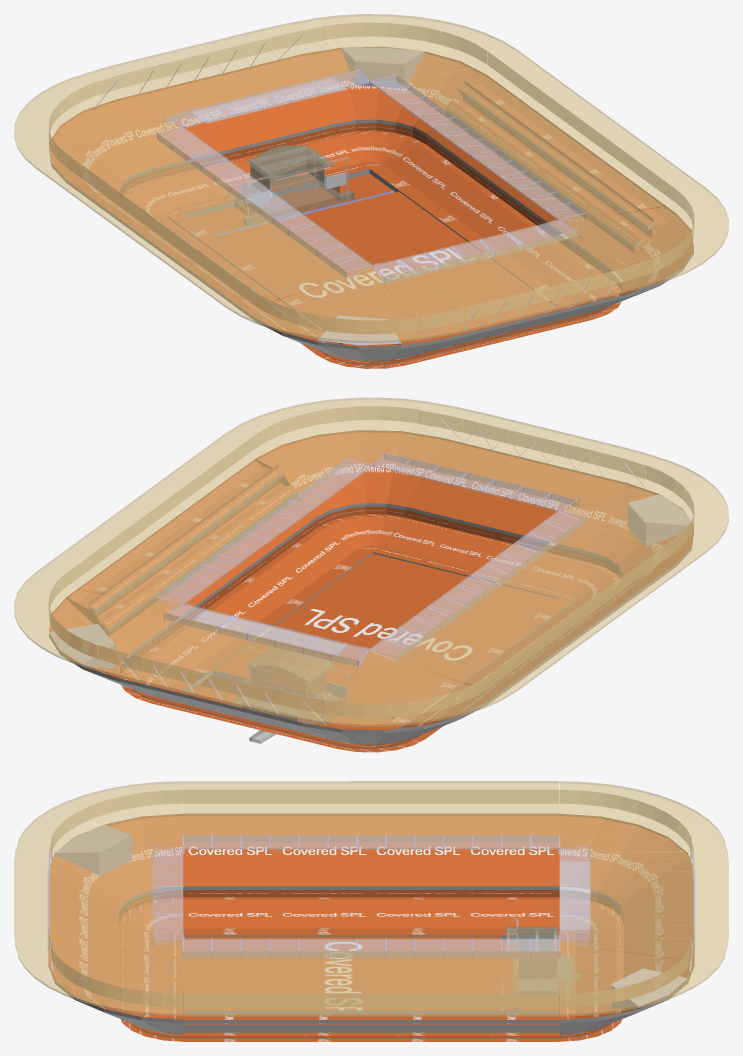
File: L-Arena.glb
3 renders of one model, top to bottom at view 1: azimuth 30°, elevation 25°; view 2: azimuth 150°, elevation 25°; view 3: azimuth 270°, elevation 25°, orthographic.
Visible parts, largest first — view 1: Surfaces, 7/Surface 5, 1/Field, 595/Surface 5, 600/Surface 5, 590/Surface 5, 605/Surface 5, 927/Surface 5, 937/Surface 5, 942/Surface 5, 932/Surface 5, 793/Surface 5 (+37 smaller); view 2: Surfaces, 7/Surface 5, 512/Surface 5, 517/Surface 5, 507/Surface 5, 502/Surface 5, 1/Field, 932/Surface 5, 927/Surface 5, 414/Surface 5, 937/Surface 5, 942/Surface 5 (+34 smaller); view 3: Surfaces, 7/Surface 5, 683/Surface 5, 688/Surface 5, 678/Surface 5, 693/Surface 5, 663/Surface 5, 668/Surface 5, 673/Surface 5, 658/Surface 5, 94/Surface 5, 219/Surface 5 (+38 smaller).
Part boxes in pixels (x1,y1,x2,y2): Surfaces: (14, 14, 728, 365); 7/Surface 5: (215, 191, 556, 346); 1/Field: (190, 173, 394, 235); 595/Surface 5: (209, 68, 290, 145); 600/Surface 5: (163, 79, 244, 156); 590/Surface 5: (256, 56, 336, 134); 605/Surface 5: (116, 90, 197, 167); 927/Surface 5: (569, 181, 675, 270); 937/Surface 5: (473, 112, 581, 202); 942/Surface 5: (426, 77, 533, 167); 932/Surface 5: (520, 147, 628, 235); 793/Surface 5: (386, 145, 465, 200); Surfaces: (14, 397, 728, 749); 7/Surface 5: (214, 553, 556, 714); 512/Surface 5: (452, 451, 533, 529); 517/Surface 5: (406, 440, 486, 517); 507/Surface 5: (499, 462, 579, 540); 502/Surface 5: (545, 474, 626, 551); 1/Field: (190, 674, 394, 729); 932/Surface 5: (162, 495, 269, 585); 927/Surface 5: (209, 461, 316, 550); 414/Surface 5: (359, 432, 401, 503); 937/Surface 5: (114, 530, 221, 619); 942/Surface 5: (69, 565, 173, 654); Surfaces: (14, 781, 728, 1038); 7/Surface 5: (183, 936, 501, 1009); 683/Surface 5: (371, 816, 465, 886); 688/Surface 5: (277, 816, 371, 886); 678/Surface 5: (465, 816, 559, 886); 693/Surface 5: (183, 816, 277, 886); 663/Surface 5: (371, 900, 465, 928); 668/Surface 5: (277, 900, 371, 928); 673/Surface 5: (183, 900, 277, 928); 658/Surface 5: (465, 900, 559, 928); 94/Surface 5: (142, 816, 183, 887); 219/Surface 5: (559, 816, 600, 885).
Bounding box in the file's own units: 176 × 33.86 × 228.
9 materials, 8 textured.
